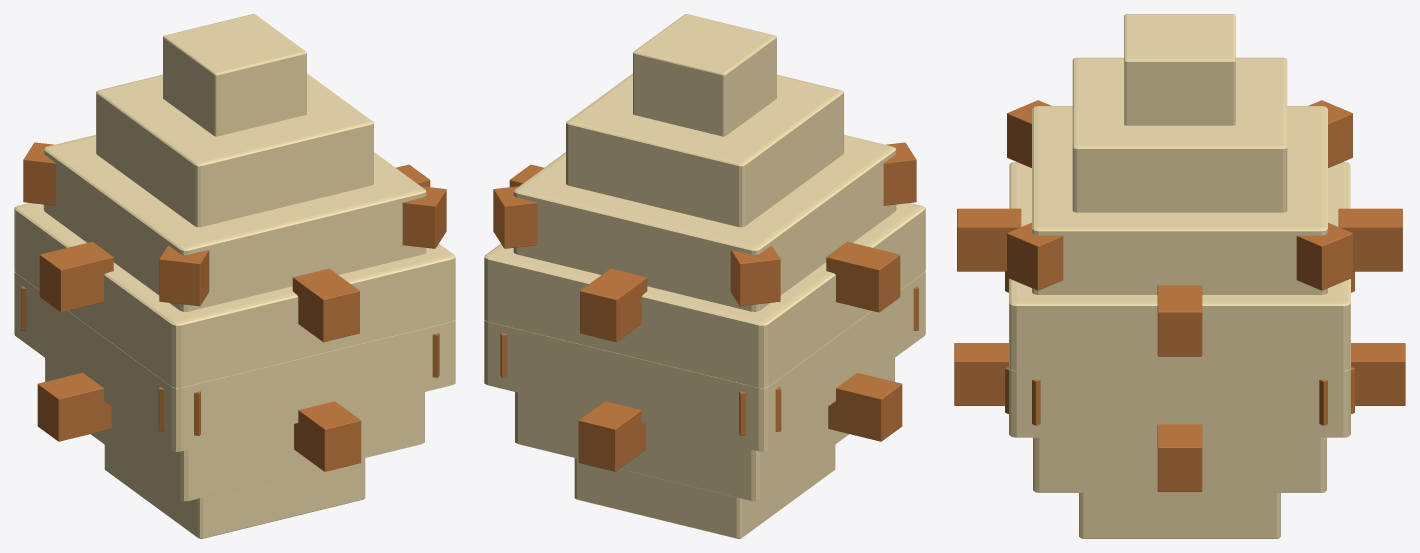
Rendered from egg-desert.glb.
3 views of the same model, side by side, from view 1: azimuth 30°, elevation 25°; view 2: azimuth 150°, elevation 25°; view 3: azimuth 270°, elevation 25° (orthographic). The views are drawn at different scales.
Parts seen in each view (by area): view 1: body; view 2: body; view 3: body.
Part boxes in pixels (x1,y1,x2,y2): body: (14, 14, 455, 538); body: (484, 14, 925, 538); body: (954, 14, 1405, 538).
Bounding box in the file's own units: 0.8878 × 1 × 0.8878.
